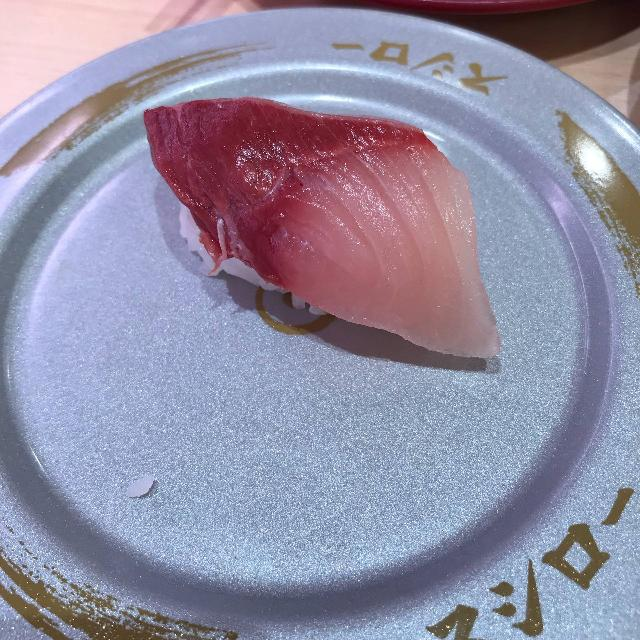janwhite: (0, 20, 640, 638)
